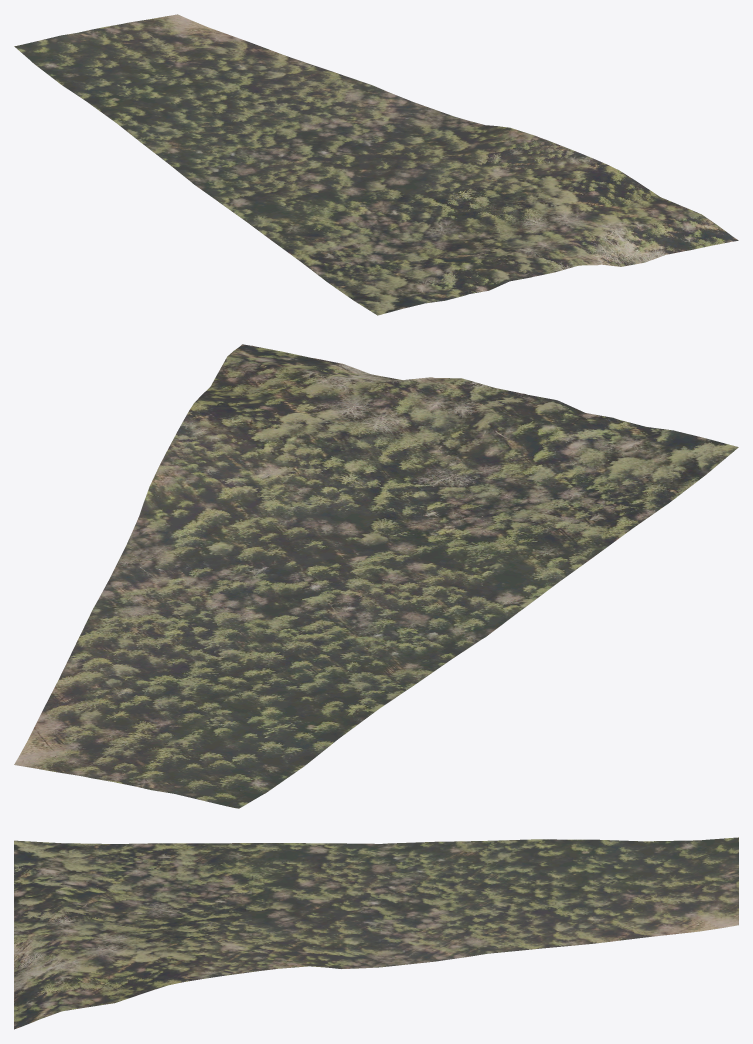
The model's file is CM_Terrain_24491073_6822456.fbx.
The picture shows the model from 3 angles, top to bottom: view 1: azimuth 30°, elevation 25°; view 2: azimuth 150°, elevation 25°; view 3: azimuth 270°, elevation 25°; orthographic projection. The views are drawn at different scales.
Parts seen in each view (by area): view 1: CM_Terrain_24491073_6822456_LOD0; view 2: CM_Terrain_24491073_6822456_LOD0; view 3: CM_Terrain_24491073_6822456_LOD0.
Boxes of the visible parts, bbox=[...] form: CM_Terrain_24491073_6822456_LOD0: bbox=[14, 14, 738, 315]; CM_Terrain_24491073_6822456_LOD0: bbox=[14, 344, 738, 808]; CM_Terrain_24491073_6822456_LOD0: bbox=[14, 837, 738, 1029].
Size of what is drawn, in the model's own units: 117 by 8.09 by 205.
